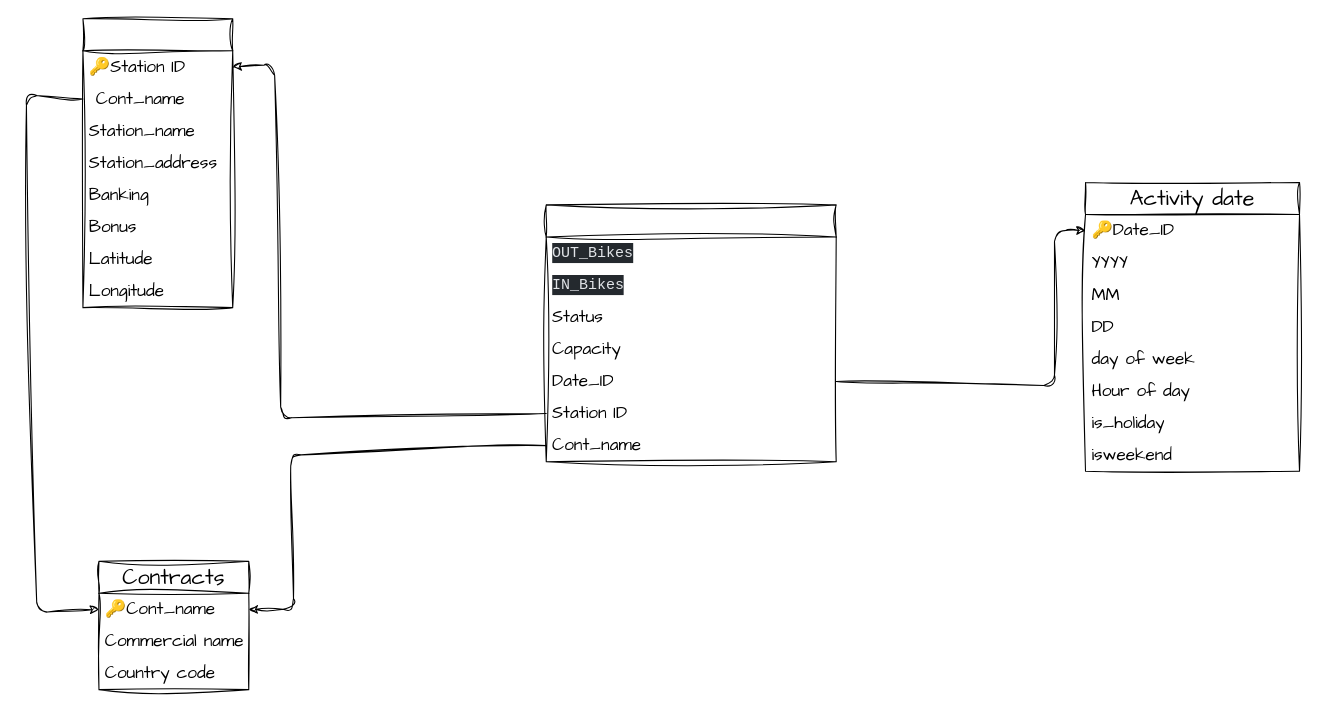
The diagram is 1318 pixels wide and 708 high, and some of its shapes have lost their labels. The box of each missing label's shape, as (x1, y1, x2, y2) in pixels:
business fact: (545, 204, 836, 462)
Stations: (82, 18, 233, 308)
